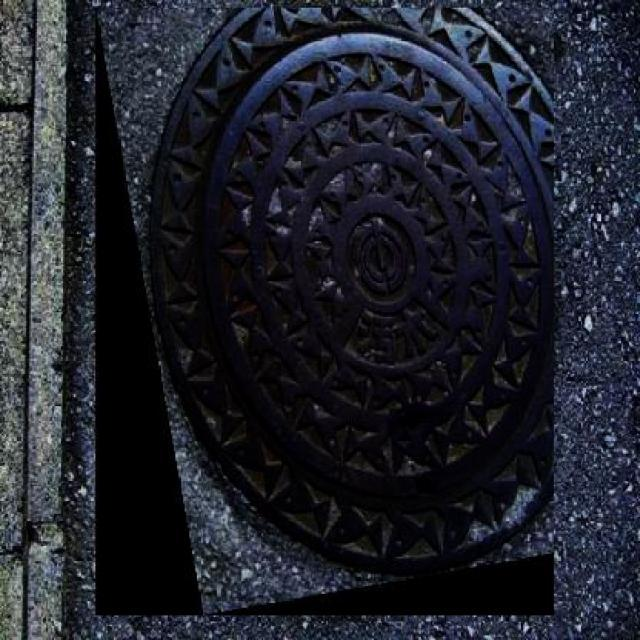Manhole: (96, 8, 555, 616)
